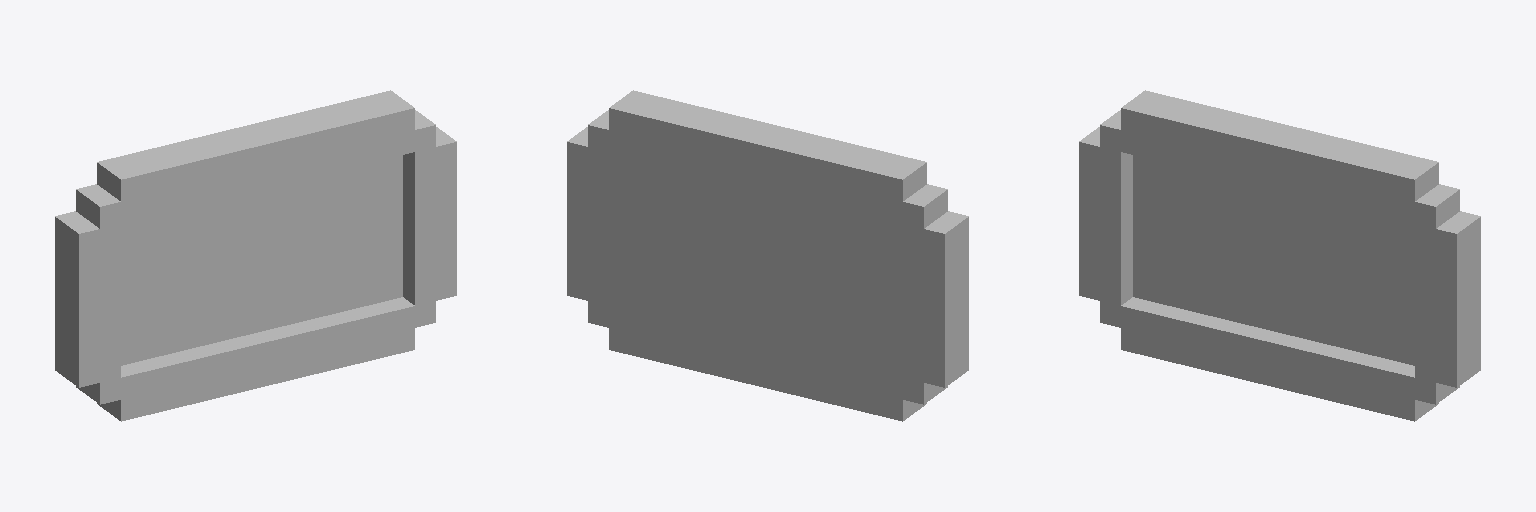
Rendered from picture_2.obj.
The picture shows the model from 3 angles: view 1: azimuth 30°, elevation 25°; view 2: azimuth 150°, elevation 25°; view 3: azimuth 330°, elevation 25°; orthographic projection.
Visible parts, largest first — view 1: picture_2; view 2: picture_2; view 3: picture_2.
Part boxes in pixels (bbox=[...]): picture_2: bbox=[55, 90, 456, 421]; picture_2: bbox=[567, 90, 968, 421]; picture_2: bbox=[1079, 90, 1480, 421].
Bounding box in the file's own units: 18 × 11 × 2.